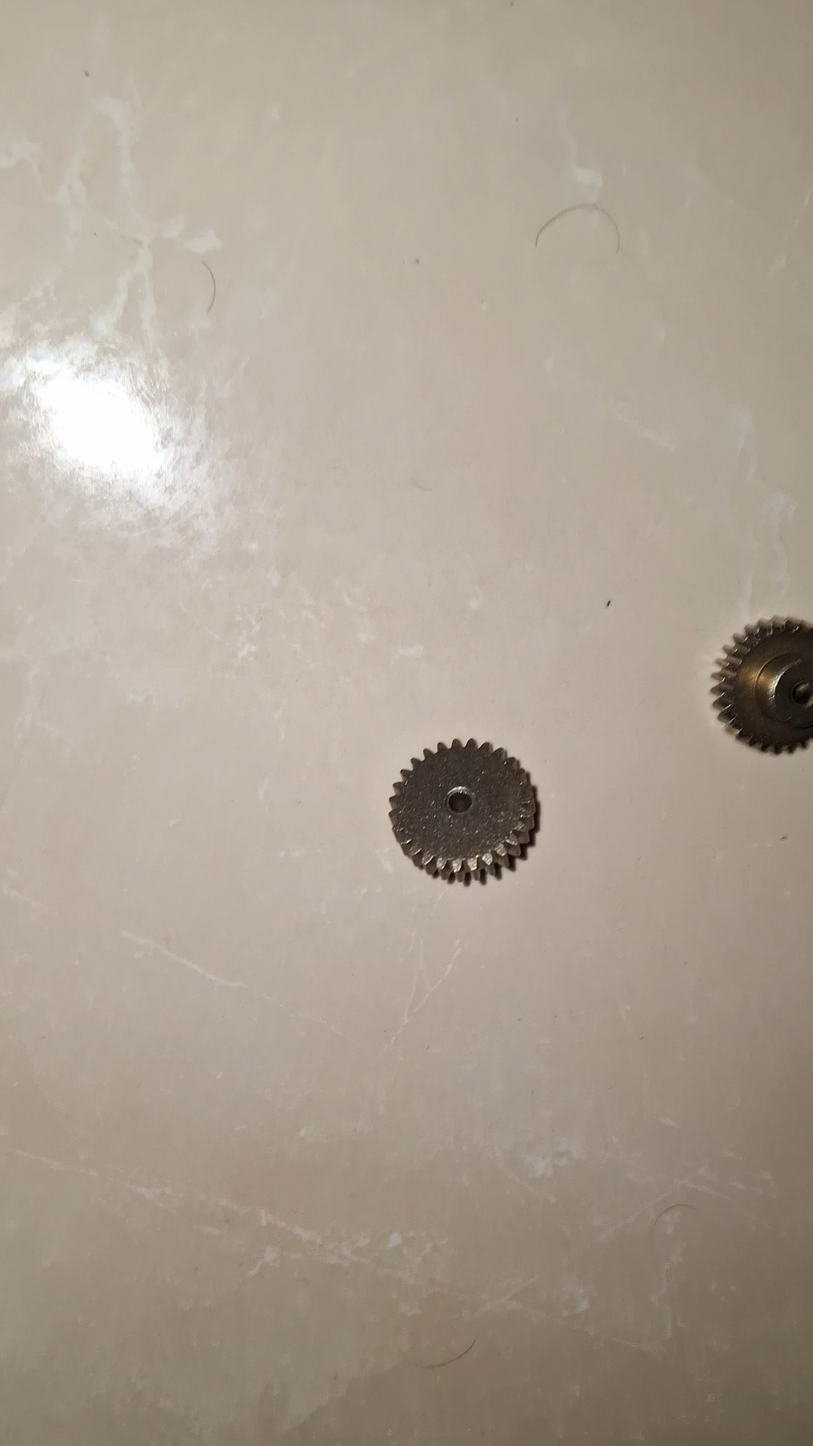spur gear: (390, 739, 535, 877), (713, 618, 813, 753)
